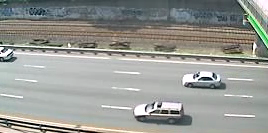car: (132, 97, 187, 126), (180, 69, 223, 90)
